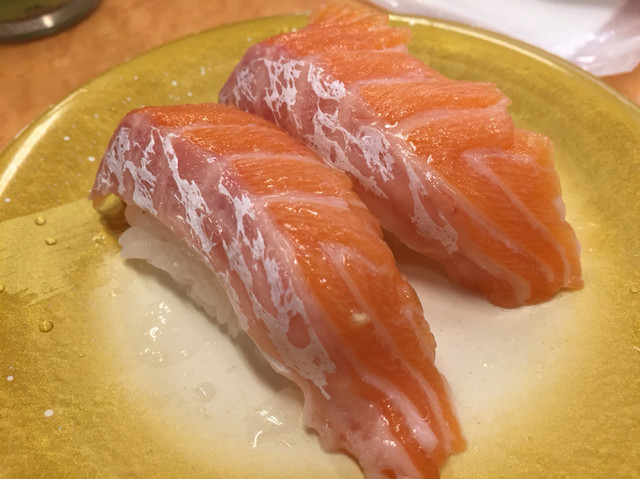salmon: (90, 2, 583, 479)
